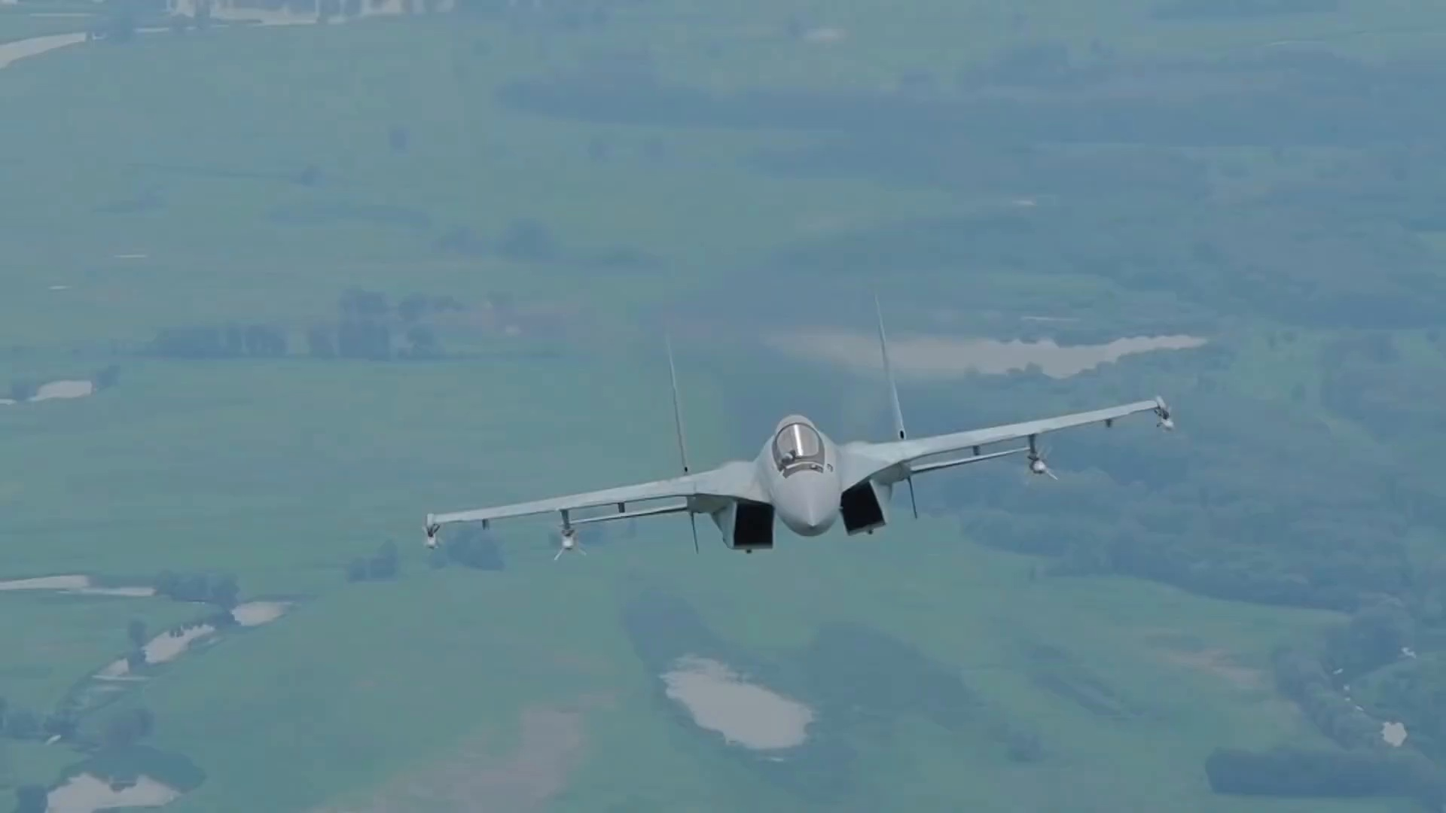Su35: (423, 294, 1174, 560)
